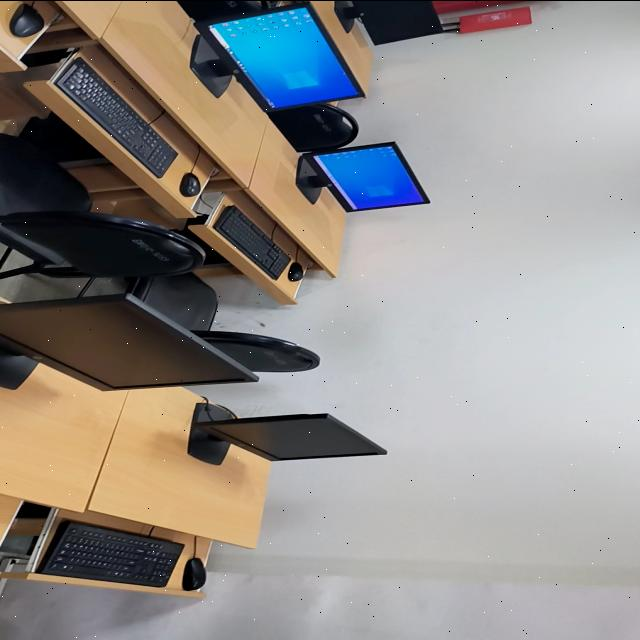Chair: (0, 133, 205, 277), (128, 271, 319, 371), (268, 102, 359, 151)
Fire Extinguisher: (432, 0, 534, 13)
Keyboard: (53, 53, 177, 177), (36, 520, 184, 586), (213, 205, 290, 278)
Monitor: (0, 293, 259, 390), (196, 1, 365, 111), (189, 401, 385, 464), (307, 141, 430, 211), (351, 0, 444, 44)
Mouse: (9, 3, 45, 36), (182, 556, 206, 590), (180, 171, 201, 196), (288, 261, 305, 281)
